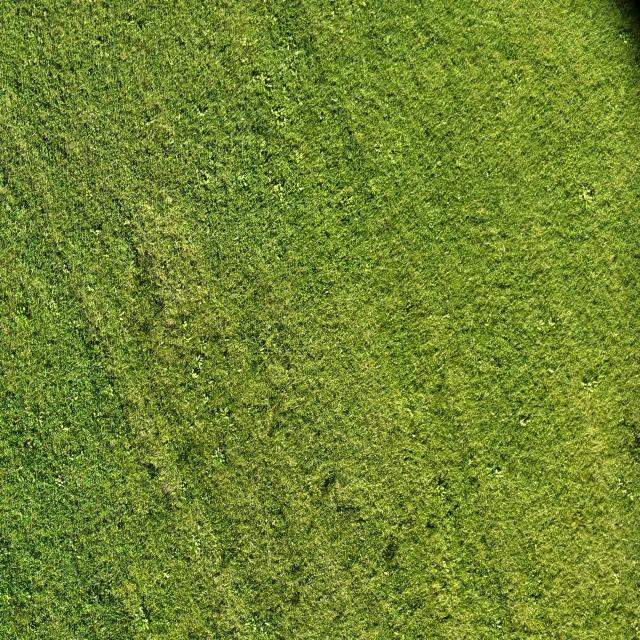rumex: (106, 3, 164, 66), (329, 2, 378, 40), (456, 206, 496, 234), (276, 30, 302, 64), (269, 172, 293, 207), (210, 400, 232, 426), (42, 289, 61, 317), (130, 610, 152, 634), (201, 169, 220, 192), (139, 460, 158, 480), (133, 246, 148, 270), (580, 185, 595, 206), (508, 70, 524, 88), (250, 121, 268, 137), (269, 105, 284, 124), (331, 608, 346, 626), (213, 446, 226, 464), (244, 619, 258, 635), (267, 423, 281, 439), (581, 377, 598, 390), (289, 589, 302, 606), (125, 259, 135, 276), (102, 386, 114, 399), (536, 320, 550, 331), (142, 605, 152, 620), (342, 194, 354, 206), (426, 518, 438, 530), (238, 176, 248, 190), (619, 82, 627, 99), (196, 108, 207, 120), (493, 468, 505, 479), (436, 475, 445, 489), (295, 150, 305, 162), (263, 78, 273, 90), (218, 404, 228, 416), (152, 104, 162, 116), (164, 483, 173, 496), (3, 592, 11, 606), (19, 305, 29, 316), (80, 603, 90, 614), (520, 414, 531, 424), (194, 355, 203, 367), (240, 36, 249, 48), (259, 138, 268, 150), (306, 480, 315, 492), (612, 571, 620, 584), (455, 158, 465, 168), (260, 148, 268, 160), (290, 68, 298, 80), (386, 151, 395, 161), (96, 35, 106, 44), (250, 69, 260, 78), (270, 15, 278, 26), (193, 547, 201, 558), (136, 19, 144, 30), (437, 485, 445, 495), (55, 240, 63, 250), (348, 7, 356, 17), (275, 183, 283, 193), (202, 395, 210, 405), (407, 410, 415, 420), (492, 618, 500, 628), (324, 230, 332, 240), (221, 348, 229, 358), (499, 245, 505, 258), (144, 119, 152, 128), (55, 478, 63, 487), (327, 23, 335, 32), (26, 439, 33, 449), (73, 320, 80, 330), (369, 8, 376, 18), (38, 416, 45, 426), (118, 310, 125, 320), (14, 472, 20, 483), (441, 559, 447, 570), (486, 466, 494, 474), (162, 572, 170, 580), (191, 371, 199, 379), (193, 366, 201, 374), (124, 218, 131, 227), (296, 98, 303, 107), (62, 267, 69, 276), (467, 457, 474, 466), (359, 1, 366, 10), (28, 30, 34, 40), (42, 132, 48, 142), (484, 170, 491, 178), (94, 228, 101, 236), (337, 27, 344, 35), (258, 346, 266, 353), (495, 465, 502, 473), (323, 288, 330, 296), (621, 489, 628, 497), (617, 479, 623, 488), (486, 166, 492, 175), (86, 285, 92, 294), (331, 9, 337, 18), (269, 520, 275, 529), (548, 318, 554, 327), (582, 611, 588, 620), (181, 321, 188, 328), (508, 78, 514, 86), (436, 158, 442, 166), (505, 100, 511, 108), (29, 58, 35, 66), (531, 114, 537, 122), (456, 194, 462, 202), (410, 432, 416, 440), (522, 623, 528, 631), (582, 379, 588, 386), (405, 16, 411, 23), (444, 313, 450, 320), (548, 367, 554, 374), (490, 411, 496, 417), (76, 554, 82, 560), (74, 394, 79, 401), (330, 0, 335, 6), (430, 312, 434, 318)
